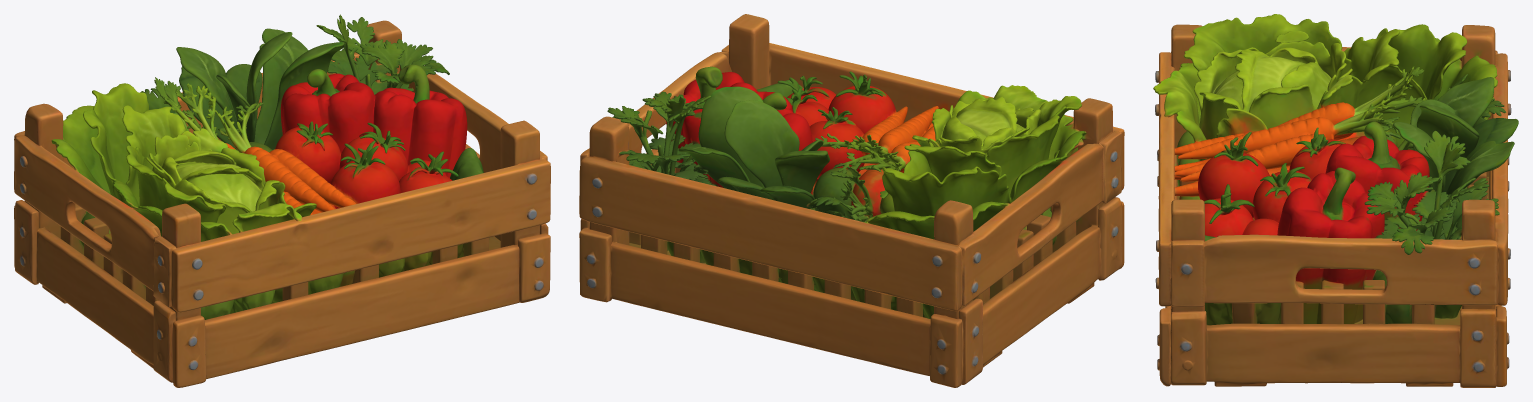
The model's file is VegetableCrate.fbx.
3 views of the same model, side by side, from view 1: azimuth 30°, elevation 25°; view 2: azimuth 150°, elevation 25°; view 3: azimuth 270°, elevation 25° (orthographic). The views are drawn at different scales.
Parts seen in each view (by area): view 1: tripo_node_72a9c1eb-6cec-4c6d-bbe6-cb841adacfbd; view 2: tripo_node_72a9c1eb-6cec-4c6d-bbe6-cb841adacfbd; view 3: tripo_node_72a9c1eb-6cec-4c6d-bbe6-cb841adacfbd.
Boxes of the visible parts, x1,y1,x2,y2 form: tripo_node_72a9c1eb-6cec-4c6d-bbe6-cb841adacfbd: [14, 14, 550, 387]; tripo_node_72a9c1eb-6cec-4c6d-bbe6-cb841adacfbd: [579, 14, 1124, 387]; tripo_node_72a9c1eb-6cec-4c6d-bbe6-cb841adacfbd: [1153, 14, 1518, 387].
Size of the model in its own units: 97.99 by 47.45 by 74.09.
Materials: 1 (1 with a texture image).
